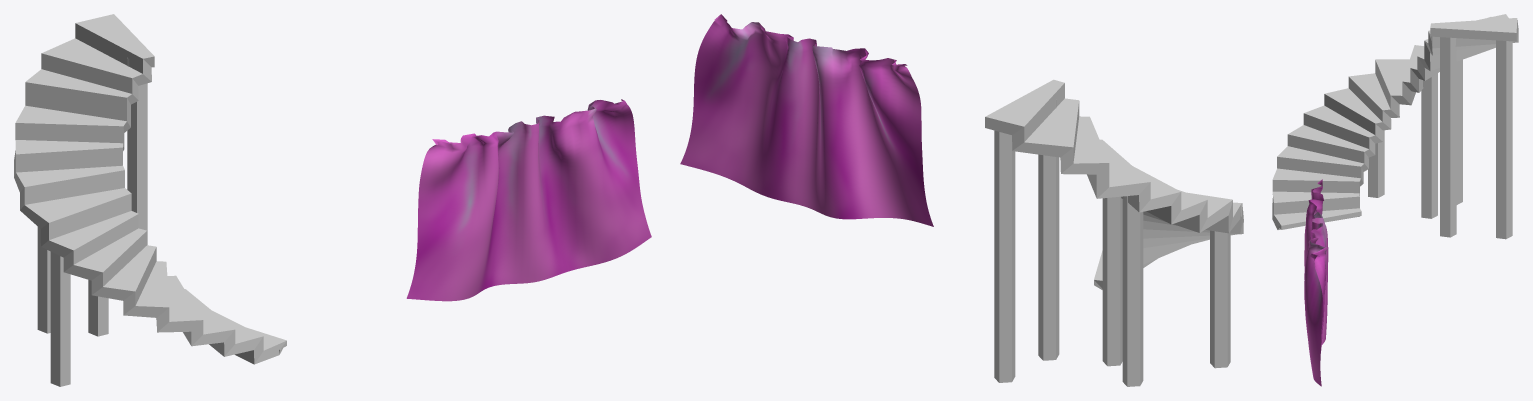
The model's file is Cortinas y escalerablend.fbx.
3 views of the same model, side by side, from view 1: azimuth 30°, elevation 25°; view 2: azimuth 150°, elevation 25°; view 3: azimuth 270°, elevation 25° (orthographic). The views are drawn at different scales.
Parts seen in each view (by area): view 1: Cortinas, Cube, Cylinder, Cylinder.003, Cylinder.004, Cylinder.001; view 2: Cortinas, Cube, Cylinder.002, Cylinder.003, Cylinder.004, Cylinder.001, Cylinder; view 3: Cube, Cortinas, Cylinder.003, Cylinder.002, Cylinder.001, Cylinder.004, Cylinder.
Boxes of the visible parts, left/top/right/bottom form: Cortinas: left=406, top=99, right=651, bottom=301; Cube: left=14, top=14, right=286, bottom=364; Cylinder: left=50, top=252, right=70, bottom=386; Cylinder.003: left=127, top=58, right=147, bottom=244; Cylinder.004: left=37, top=227, right=50, bottom=333; Cylinder.001: left=88, top=280, right=108, bottom=336; Cortinas: left=680, top=14, right=933, bottom=226; Cube: left=985, top=79, right=1243, bottom=289; Cylinder.002: left=994, top=130, right=1015, bottom=382; Cylinder.003: left=1038, top=99, right=1059, bottom=360; Cylinder.004: left=1122, top=196, right=1143, bottom=386; Cylinder.001: left=1102, top=196, right=1122, bottom=366; Cylinder: left=1210, top=230, right=1230, bottom=368; Cube: left=1272, top=14, right=1518, bottom=229; Cortinas: left=1304, top=179, right=1328, bottom=386; Cylinder.003: left=1440, top=37, right=1456, bottom=237; Cylinder.002: left=1496, top=40, right=1512, bottom=239; Cylinder.001: left=1421, top=73, right=1437, bottom=218; Cylinder.004: left=1456, top=59, right=1462, bottom=204; Cylinder: left=1368, top=130, right=1384, bottom=197.
Size of the model in its own units: 15372 by 6928 by 7127.
